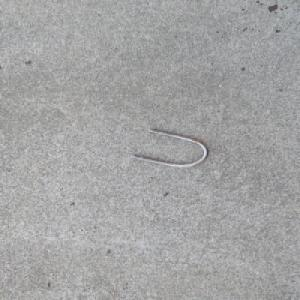ClampPart: (129, 127, 212, 168)
